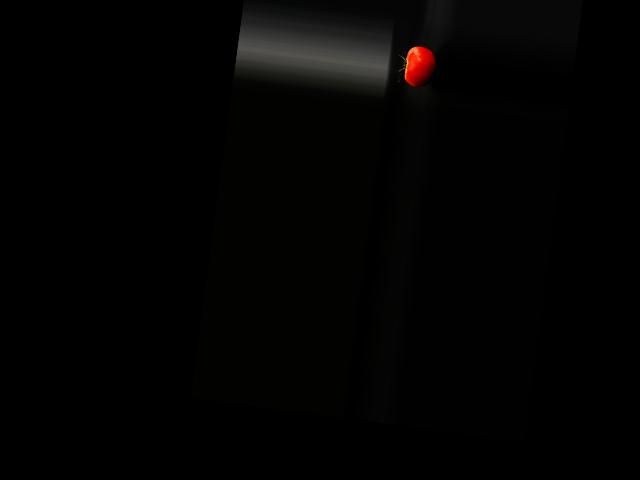tomato: (403, 44, 438, 88)
